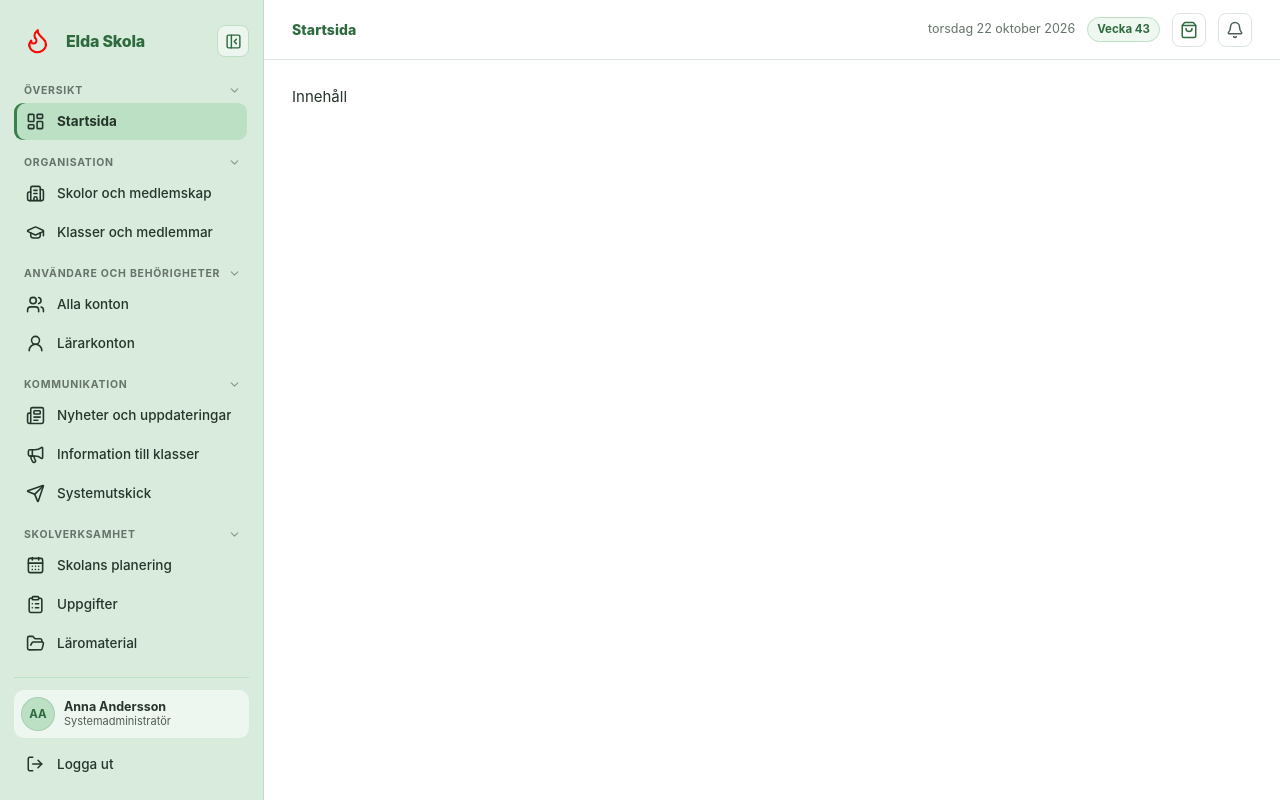
Test case: AppShell › fäller ihop och expanderar grupperna i adminmenyn
The width and height of the screenshot is (1280, 800).
Expected: the button "Skolor och medlemskap" is shown, [14,175,247,212]
Click the button "Organisation" at (130, 162), box [14,152,247,173]
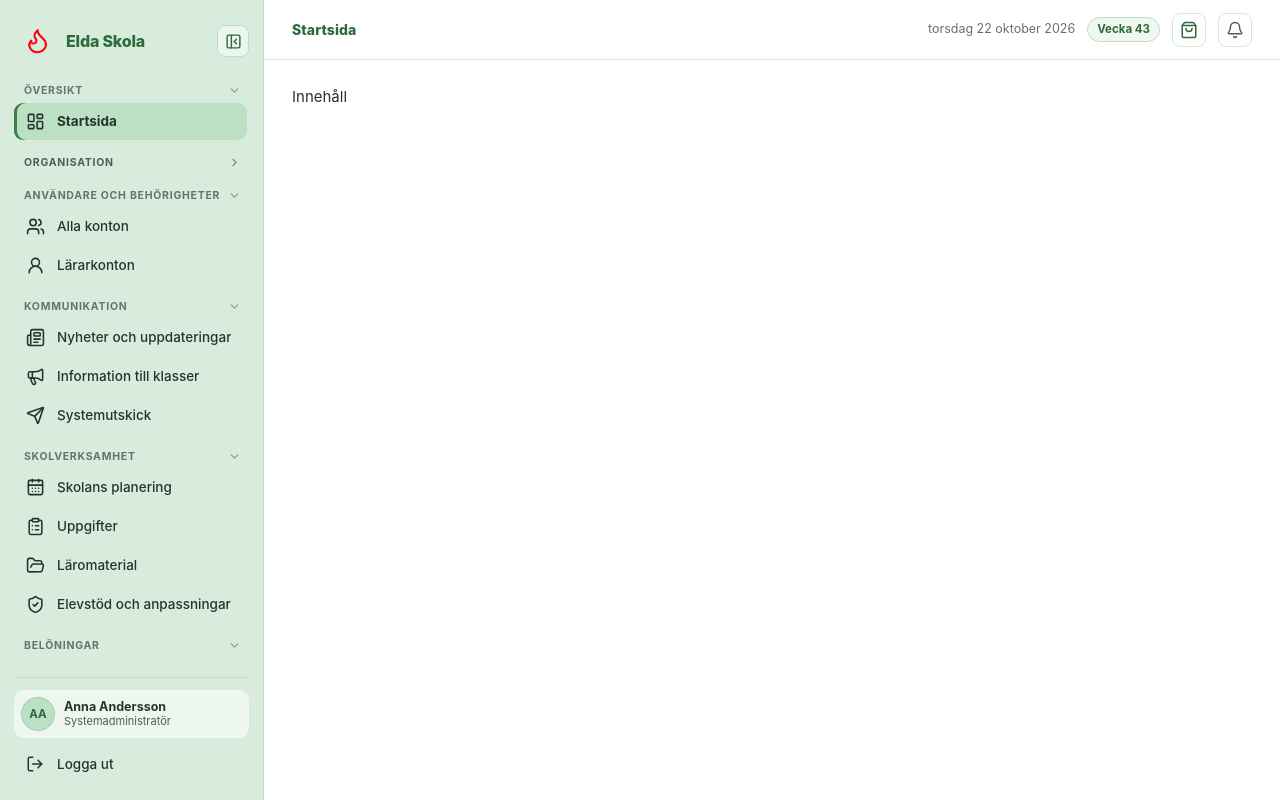
Expected: the button "Organisation" is collapsed
Expected: the button "Skolor och medlemskap" is gone
Click the button "Organisation" at (130, 162), box [14,152,247,173]
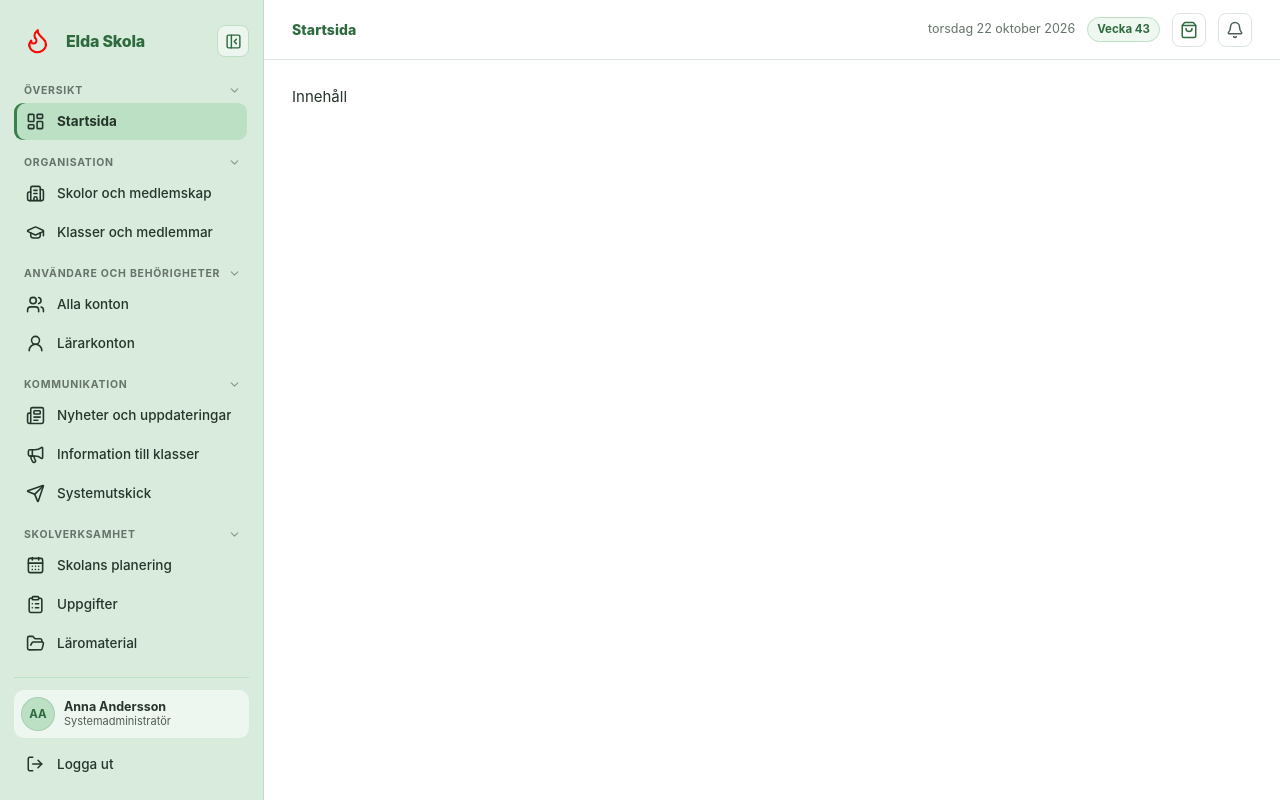
Expected: the button "Organisation" is expanded, [14,152,247,173]
Expected: the button "Skolor och medlemskap" is shown, [14,175,247,212]
